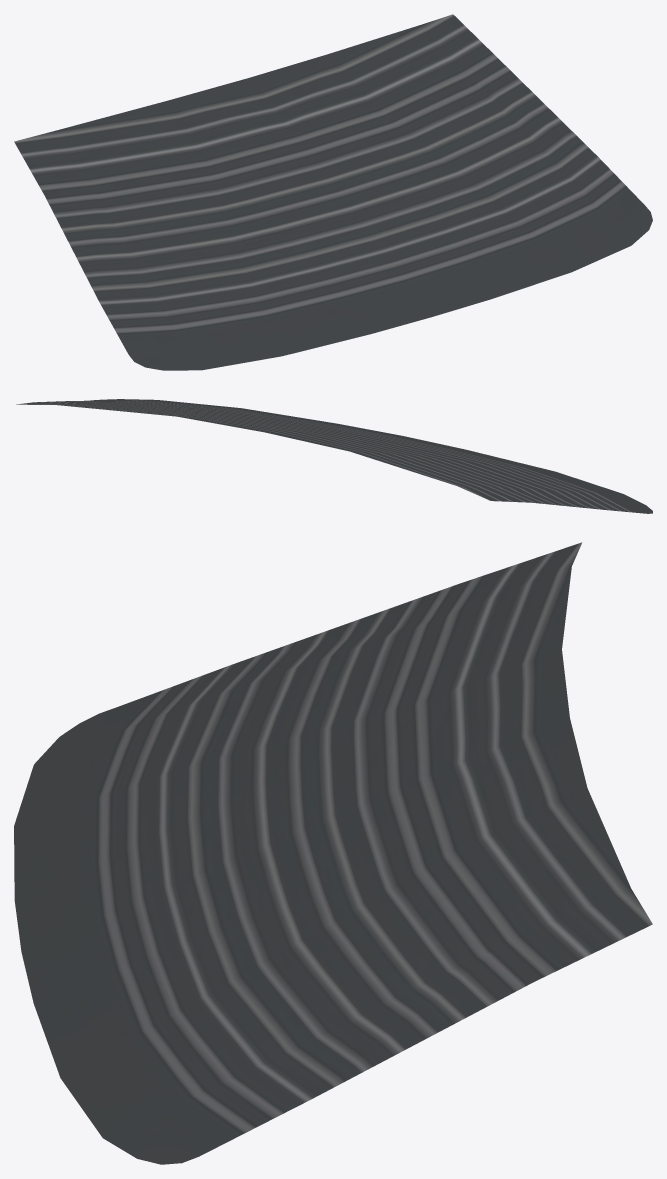
The model's file is tozzo98_rear_glass_ucb_lights_and_glass_transperent_0.004_lev3.glb.
The picture shows the model from 3 angles, top to bottom: view 1: azimuth 30°, elevation 25°; view 2: azimuth 150°, elevation 25°; view 3: azimuth 270°, elevation 25°; orthographic projection. The views are drawn at different scales.
Parts seen in each view (by area): view 1: tozzo98_rear_glass_ucb_lights_and_glass_transperent_0.004_le; view 2: tozzo98_rear_glass_ucb_lights_and_glass_transperent_0.004_le; view 3: tozzo98_rear_glass_ucb_lights_and_glass_transperent_0.004_le.
Boxes of the visible parts, x1,y1,x2,y2 form: tozzo98_rear_glass_ucb_lights_and_glass_transperent_0.004_le: [14, 14, 652, 370]; tozzo98_rear_glass_ucb_lights_and_glass_transperent_0.004_le: [16, 399, 652, 513]; tozzo98_rear_glass_ucb_lights_and_glass_transperent_0.004_le: [14, 542, 652, 1164].
Bounding box in the file's own units: 1.12 × 0.2522 × 0.6733.
1 material, 1 textured.
